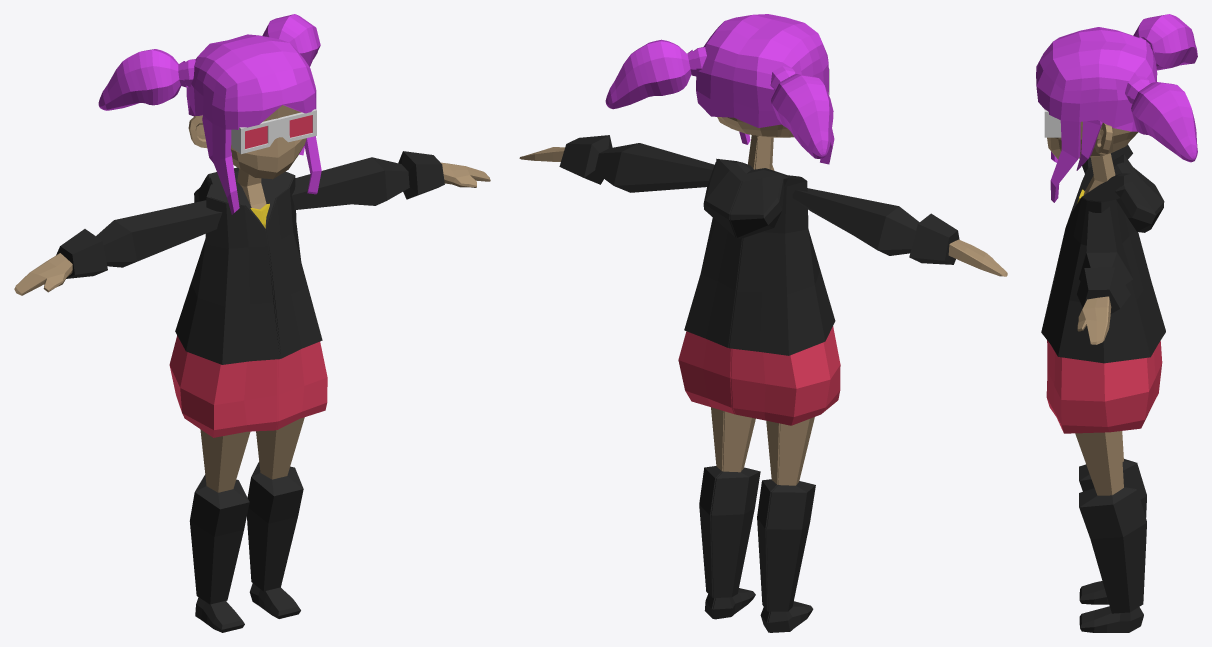
Rendered from eloa.fbx.
The picture shows the model from 3 angles, left to right: view 1: azimuth 30°, elevation 25°; view 2: azimuth 150°, elevation 25°; view 3: azimuth 270°, elevation 25°; orthographic projection. The views are drawn at different scales.
Parts seen in each view (by area): view 1: Eloa; view 2: Eloa; view 3: Eloa.
Part boxes in pixels (box(x1,y1,x2,y2)): Eloa: box(14, 14, 490, 632); Eloa: box(519, 14, 1007, 632); Eloa: box(1036, 14, 1197, 632).
Bounding box in the file's own units: 137 × 158 × 40.51.
